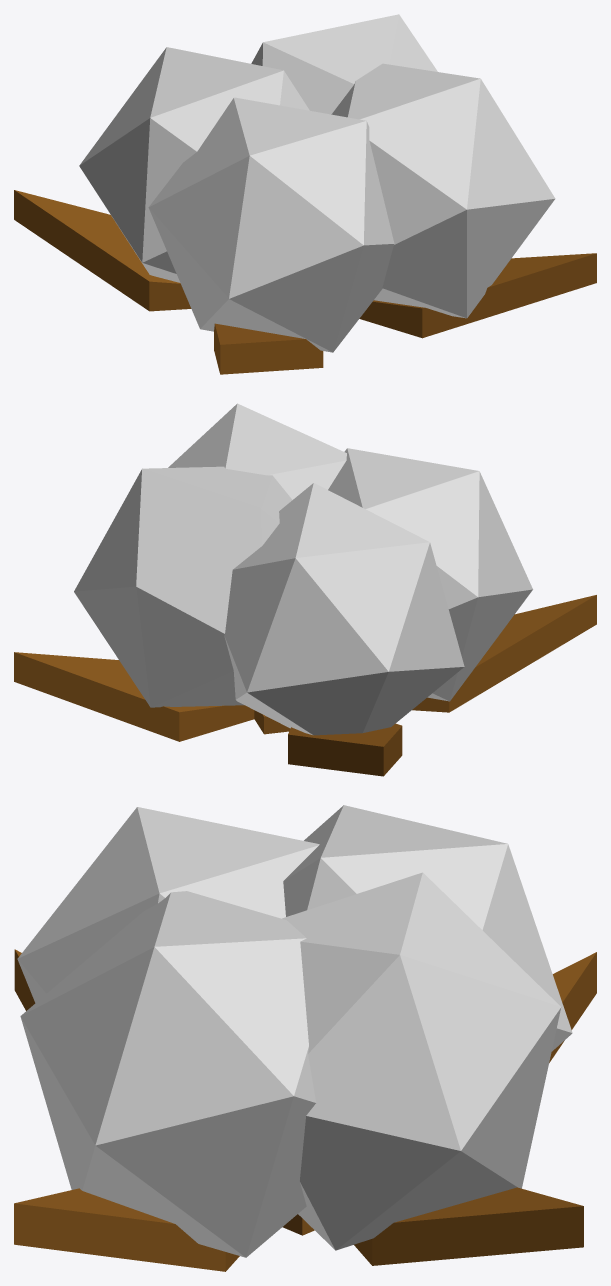
File: cotton (2).fbx
3 views of the same model, one above another, from view 1: azimuth 30°, elevation 25°; view 2: azimuth 150°, elevation 25°; view 3: azimuth 270°, elevation 25° (orthographic). The views are drawn at different scales.
Parts seen in each view (by area): view 1: Cube; view 2: Cube; view 3: Cube.
Boxes of the visible parts, <box> form: Cube: <box>14,14,596,374</box>; Cube: <box>14,403,596,776</box>; Cube: <box>14,805,596,1271</box>.
Size of the model in its own units: 206 by 121 by 198.
